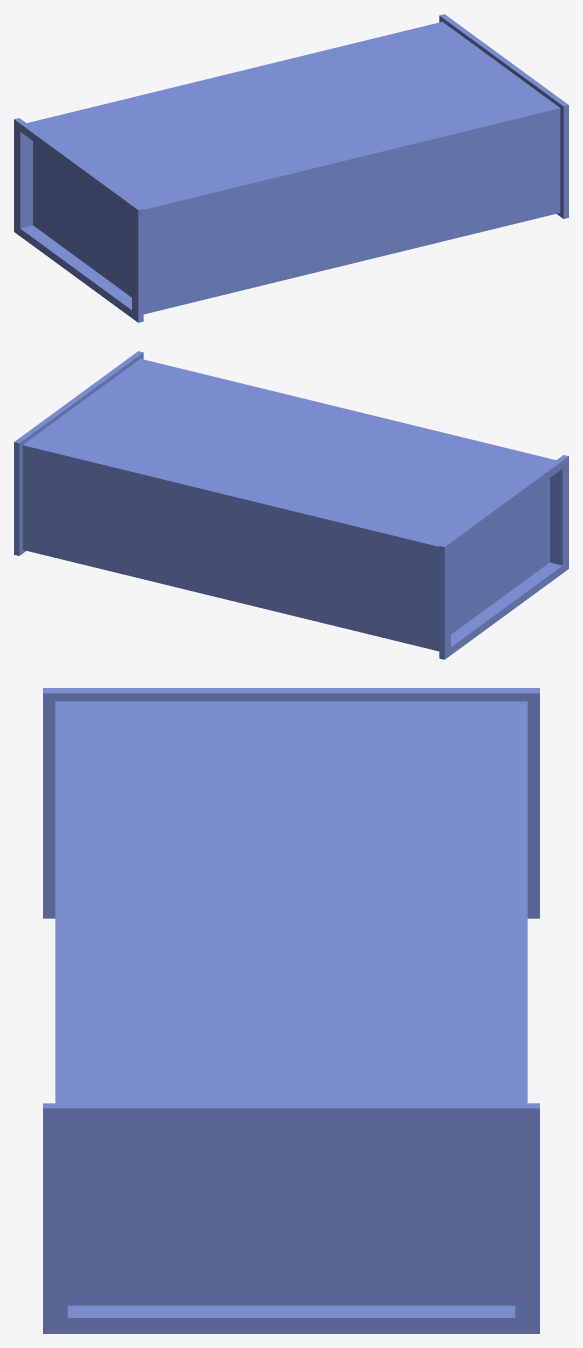
Rendered from SM_PROP_VENT_05.fbx.
3 renders of one model, top to bottom at view 1: azimuth 30°, elevation 25°; view 2: azimuth 150°, elevation 25°; view 3: azimuth 270°, elevation 25°, orthographic. The views are drawn at different scales.
Parts seen in each view (by area): view 1: SM_PROP_VENT_05; view 2: SM_PROP_VENT_05; view 3: SM_PROP_VENT_05.
Part boxes in pixels (x1,y1,x2,y2): SM_PROP_VENT_05: (14,14,568,322); SM_PROP_VENT_05: (14,351,568,659); SM_PROP_VENT_05: (43,688,539,1333).
Size of the model in its own units: 4 by 1 by 2.
